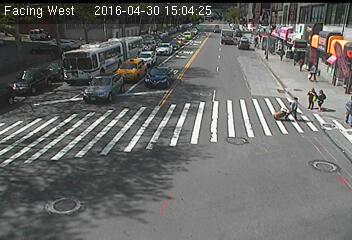neg: (133, 100, 151, 124), (76, 113, 92, 134), (55, 190, 71, 211), (200, 86, 216, 107), (157, 65, 171, 83), (180, 31, 193, 48), (89, 7, 102, 24), (321, 22, 333, 39), (225, 32, 237, 48), (222, 127, 234, 143), (190, 3, 202, 19), (44, 30, 54, 43), (23, 69, 32, 81)
pos: (279, 92, 302, 122), (310, 83, 331, 111), (300, 85, 320, 112), (337, 95, 351, 120), (305, 61, 321, 81), (294, 56, 307, 73), (276, 44, 286, 57), (252, 35, 261, 47)
